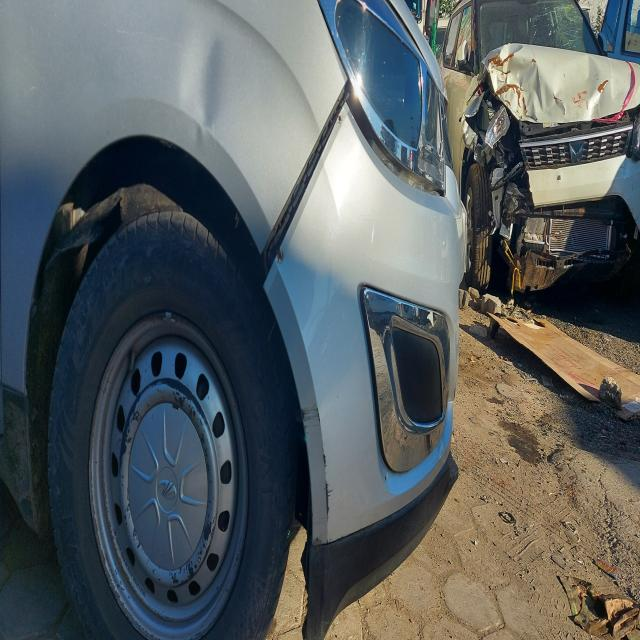damage: (264, 68, 342, 286), (185, 23, 225, 151), (309, 398, 338, 520)
